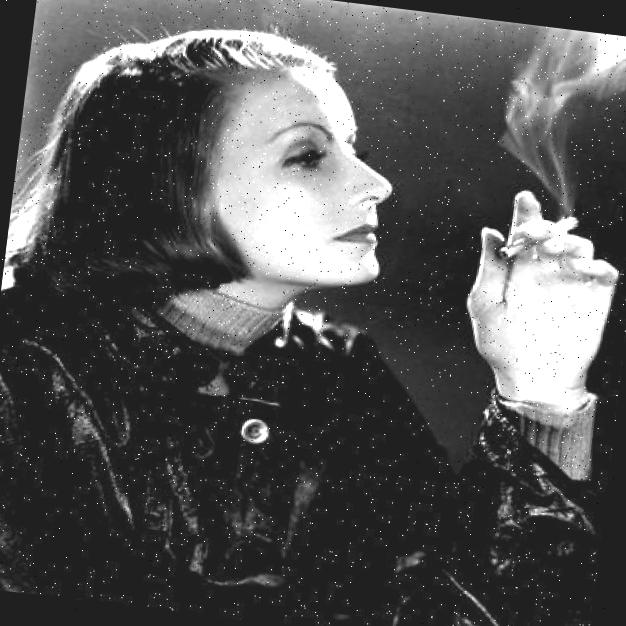smoke: (479, 24, 626, 191)
